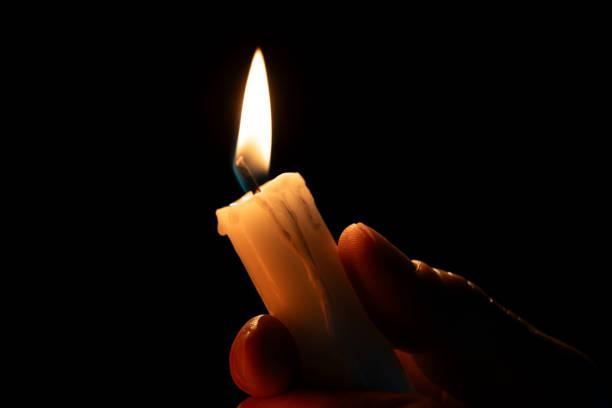Fire: (231, 28, 277, 178)
